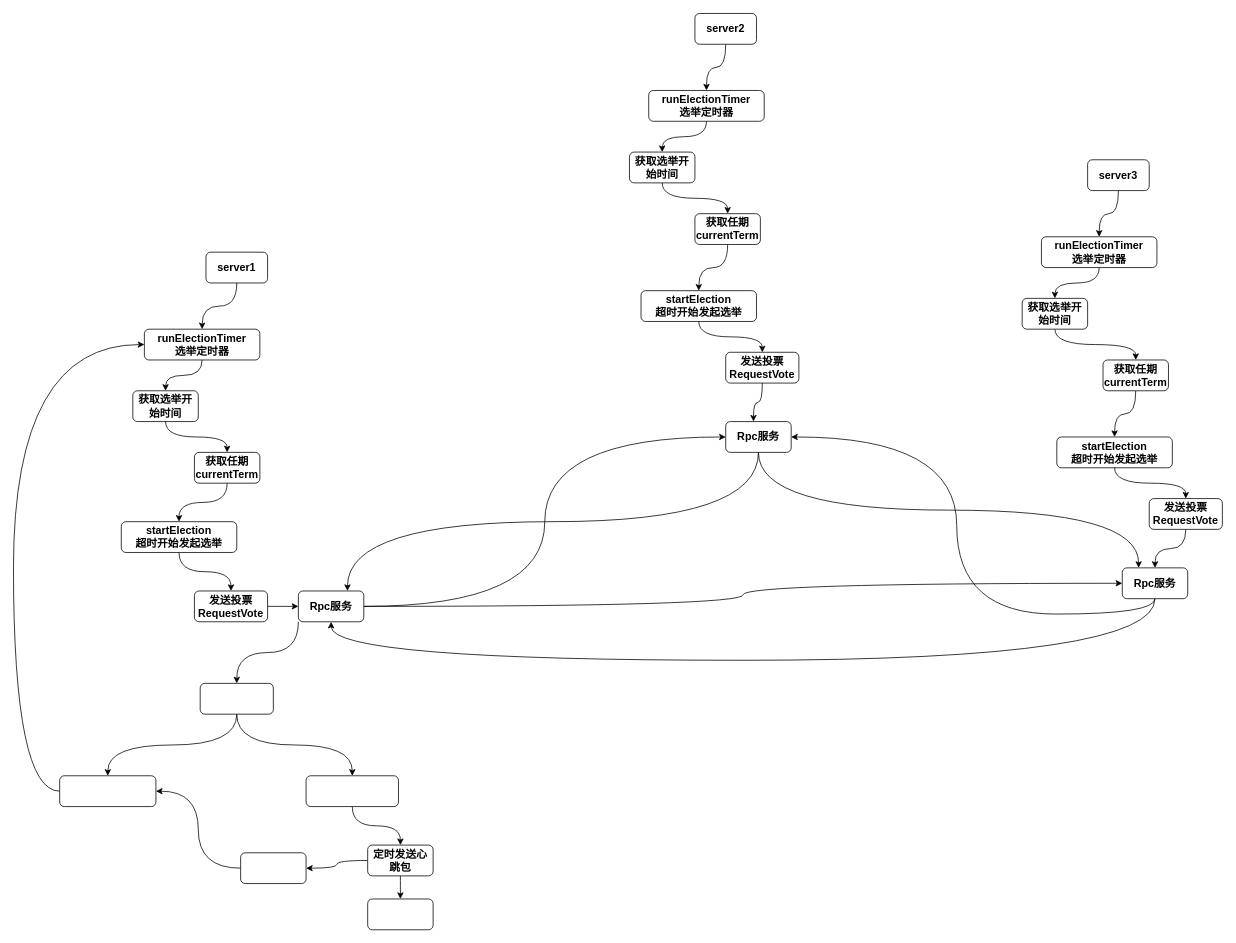
Image size: 1236x943. Some labels were removed from this diagram. Each missing label, with the box of its shape:
becomeFollower 成为追随者: (59, 775, 156, 807)
startLeader 成为领导者: (305, 775, 398, 807)
当前任期小于应答: (240, 852, 306, 884)
收集投票结果: (199, 683, 273, 714)
检查领导者状态: (367, 898, 433, 930)
